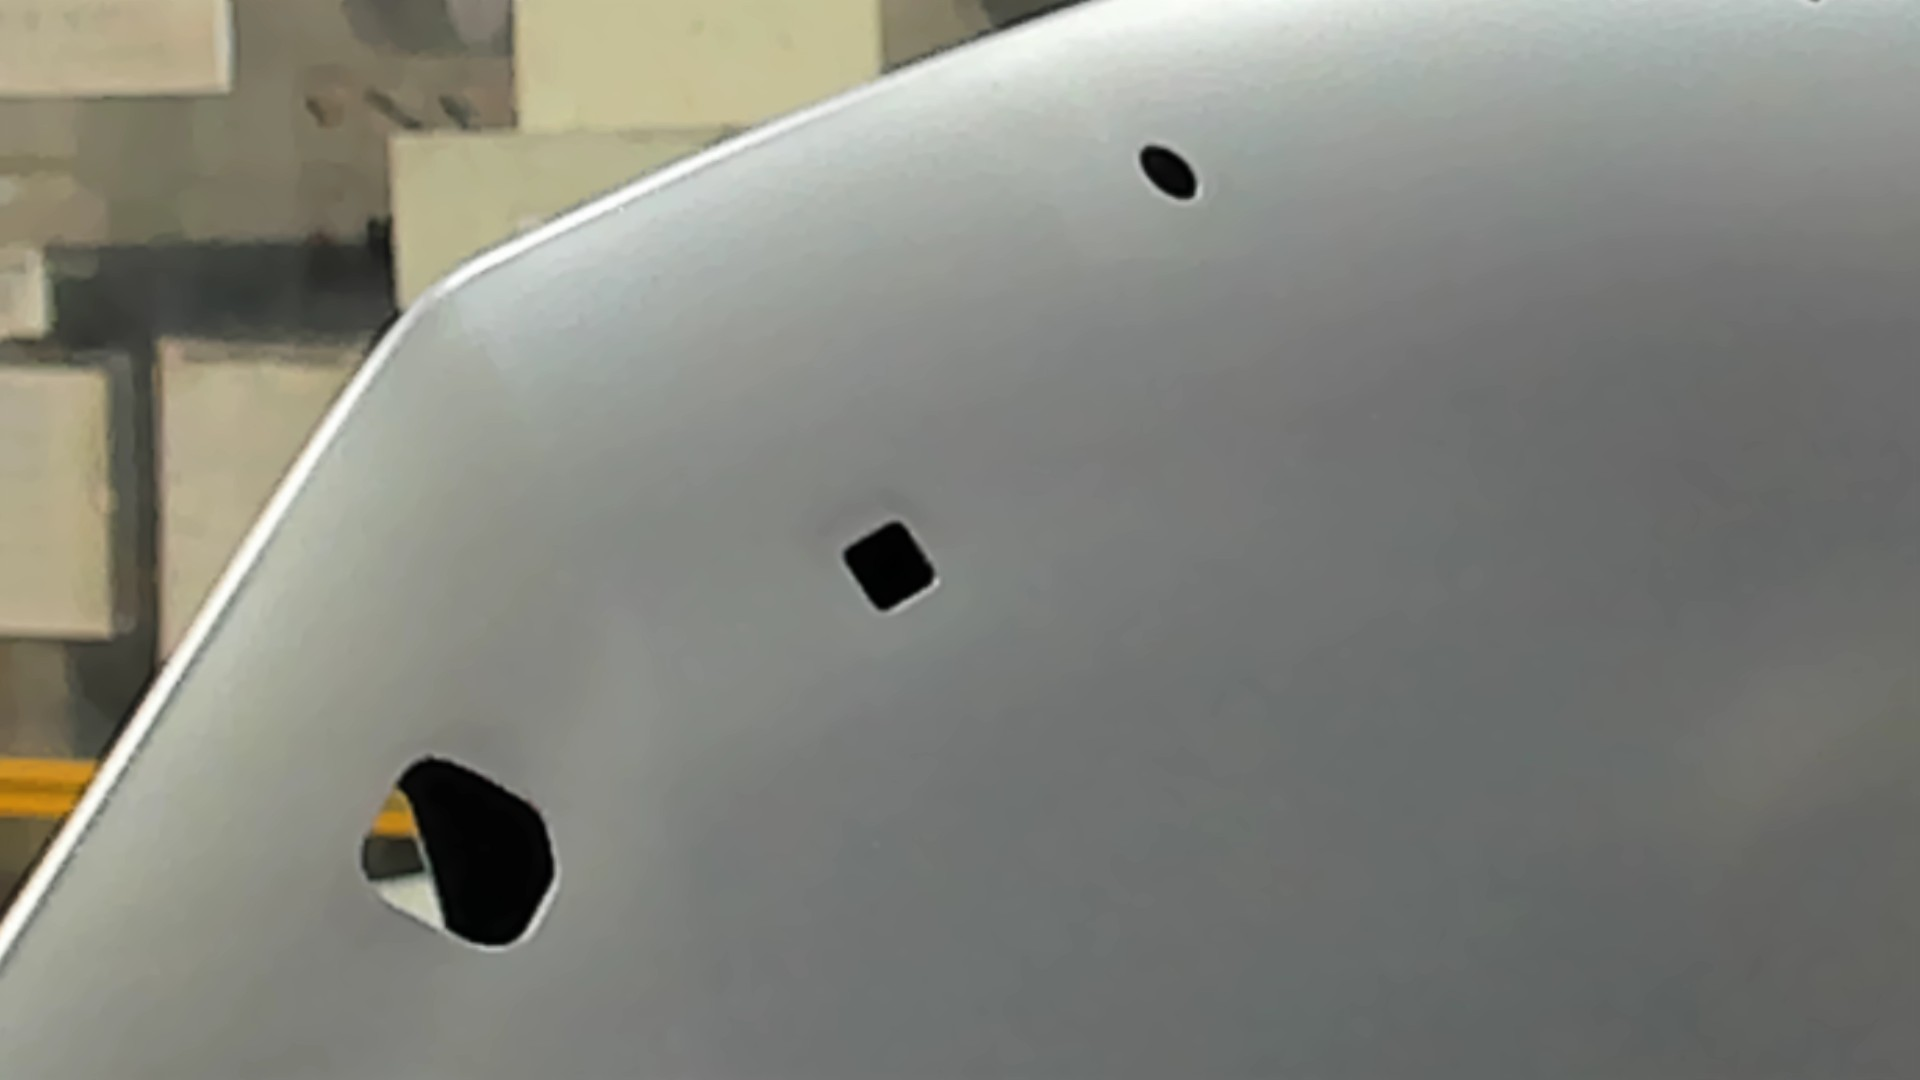chico: (1135, 141, 1200, 203)
grande: (357, 756, 563, 956)
mediano: (840, 514, 943, 613)
